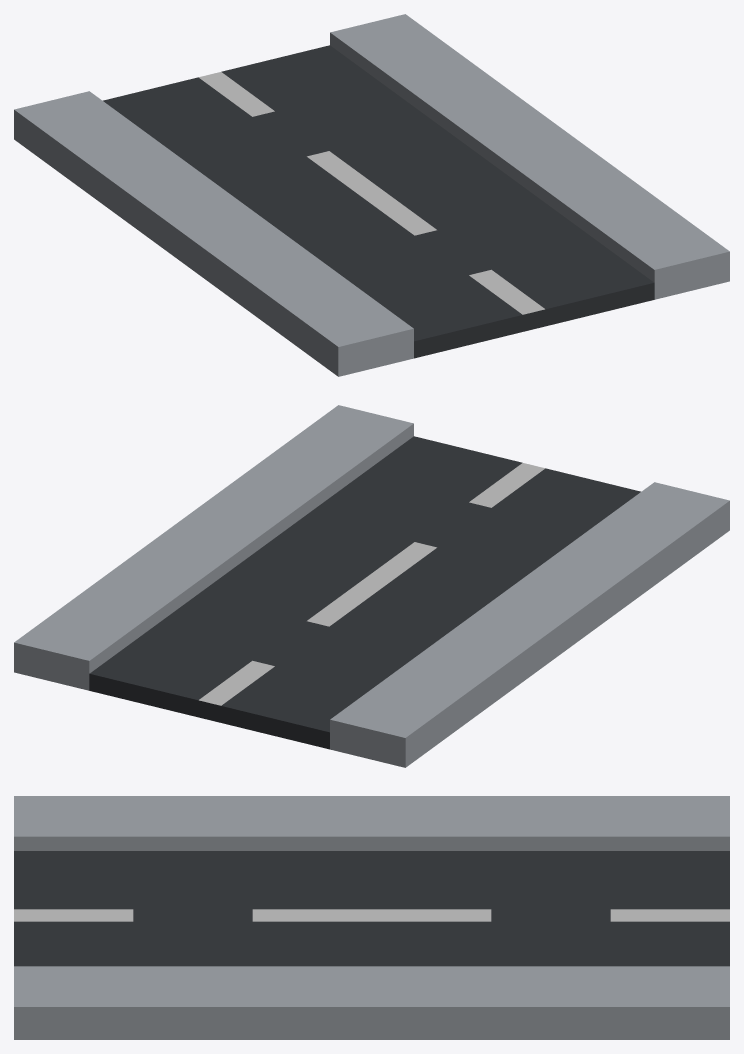
File: Road.fbx
The picture shows the model from 3 angles, top to bottom: view 1: azimuth 30°, elevation 25°; view 2: azimuth 150°, elevation 25°; view 3: azimuth 270°, elevation 25°; orthographic projection. The views are drawn at different scales.
Visible parts, largest first — view 1: Road; view 2: Road; view 3: Road.
Part boxes in pixels (x1=…): Road: x1=14, y1=14, x2=729, y2=376; Road: x1=14, y1=405, x2=729, y2=767; Road: x1=14, y1=796, x2=729, y2=1039.
Bounding box in the file's own units: 551 × 40.2 × 791.
